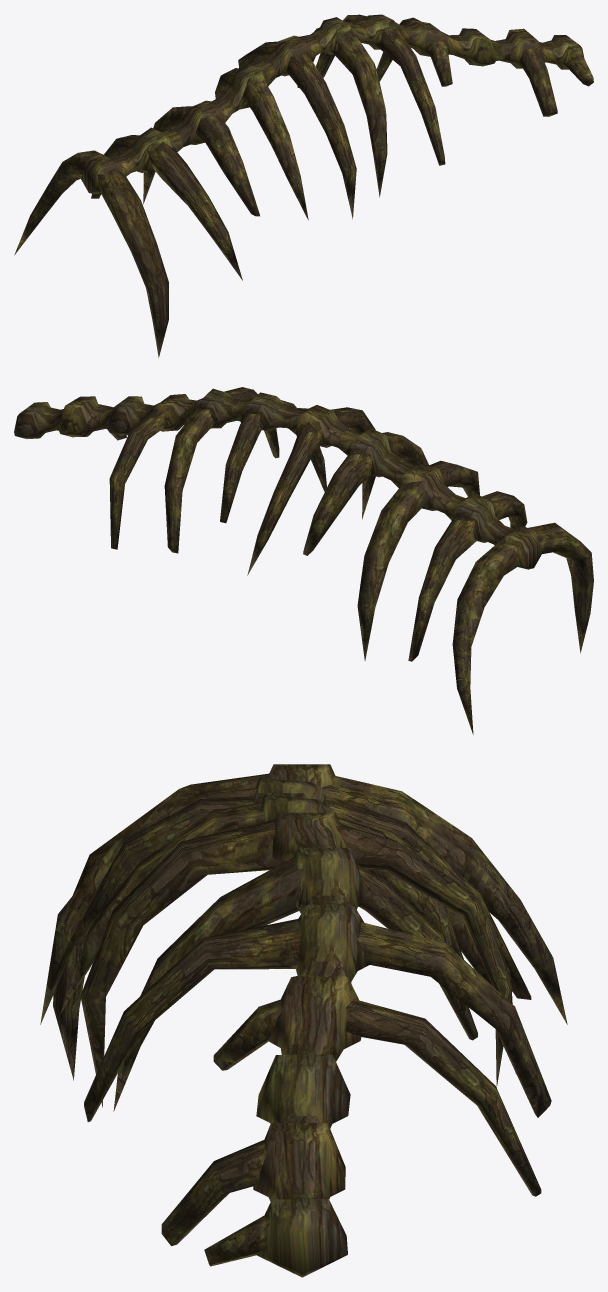
File: 10204_bone04.FBX
3 renders of one model, top to bottom at view 1: azimuth 30°, elevation 25°; view 2: azimuth 150°, elevation 25°; view 3: azimuth 270°, elevation 25°, orthographic. The views are drawn at different scales.
Parts seen in each view (by area): view 1: 10204_bone04; view 2: 10204_bone04; view 3: 10204_bone04.
Boxes of the visible parts, box(x1,y1,x2,y2) form: 10204_bone04: box(14, 14, 593, 357); 10204_bone04: box(14, 387, 593, 734); 10204_bone04: box(40, 764, 567, 1277).
Bounding box in the file's own units: 1214 × 540 × 558.
